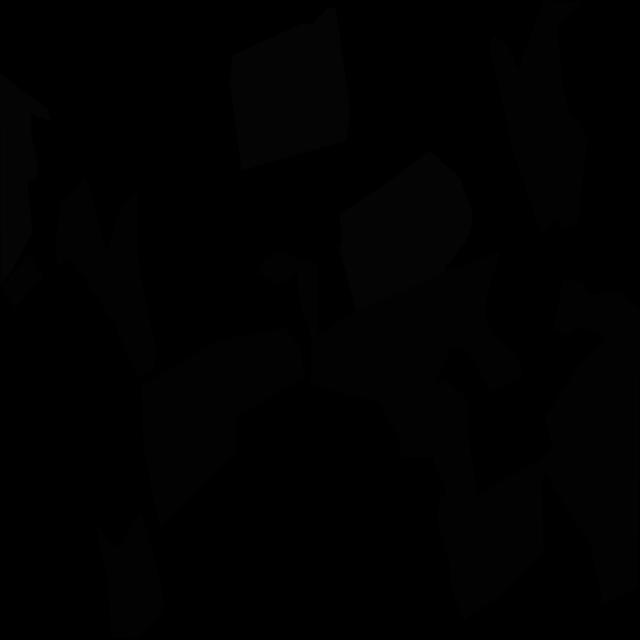cardboard: (256, 250, 523, 458), (538, 280, 640, 605), (141, 327, 305, 527), (1, 173, 156, 377), (490, 0, 588, 237), (434, 425, 546, 621), (95, 508, 164, 639)
soft_plastic: (339, 151, 473, 312), (230, 8, 350, 170), (0, 73, 50, 285)
